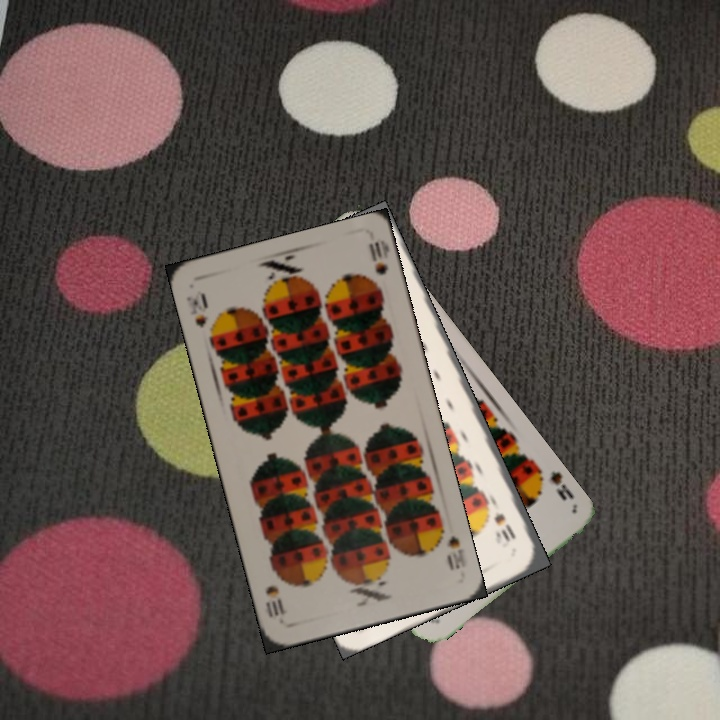S10: (433, 519, 469, 573), (490, 507, 518, 545), (182, 292, 210, 330)
S9: (528, 461, 577, 503)
